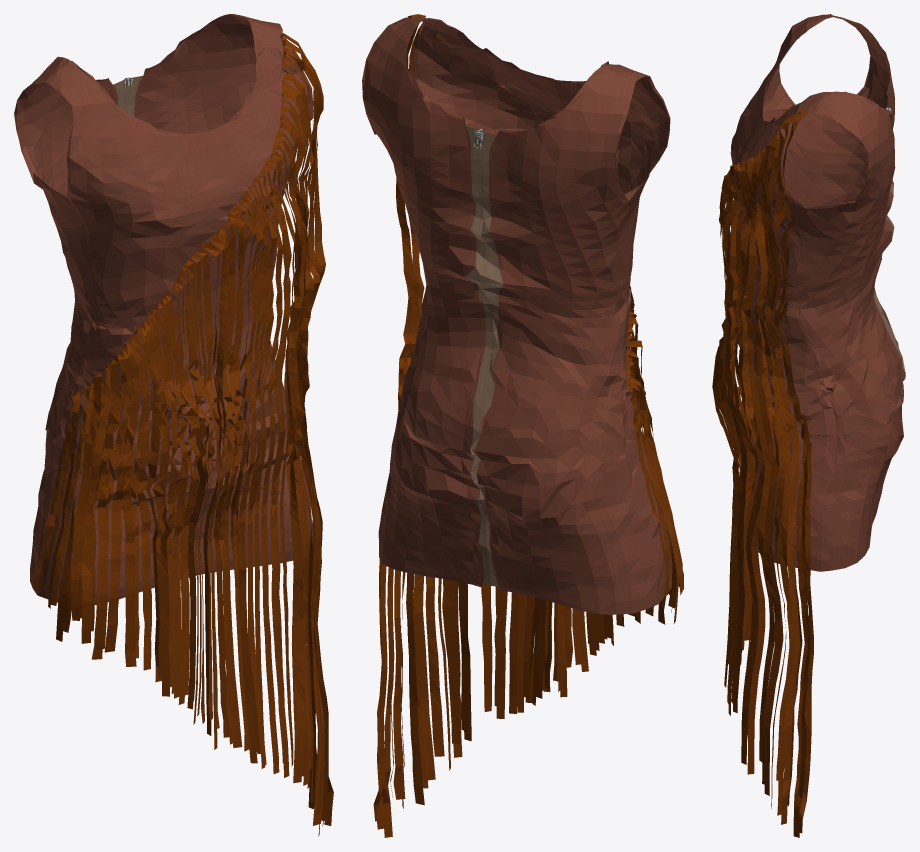
The model's file is mhw_elvs_fringe_leather_dress.glb.
3 renders of one model, left to right at view 1: azimuth 30°, elevation 25°; view 2: azimuth 150°, elevation 25°; view 3: azimuth 270°, elevation 25°, orthographic. The views are drawn at different scales.
Visible parts, largest first — view 1: mhw_elvs_fringe_leather_dress; view 2: mhw_elvs_fringe_leather_dress; view 3: mhw_elvs_fringe_leather_dress.
Boxes of the visible parts, left/top/right/bottom form: mhw_elvs_fringe_leather_dress: left=14, top=14, right=333, bottom=836; mhw_elvs_fringe_leather_dress: left=362, top=14, right=683, bottom=837; mhw_elvs_fringe_leather_dress: left=712, top=14, right=905, bottom=837.
Bounding box in the file's own units: 0.477 × 1.28 × 0.3093.
Materials: 1 (1 with a texture image).
